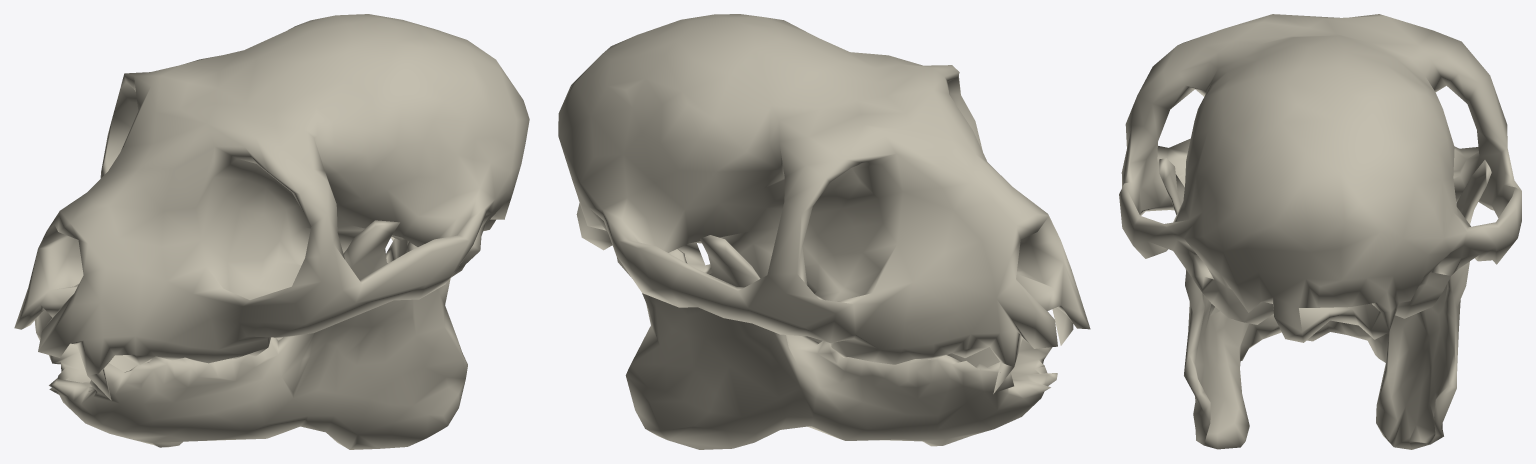
File: indri.glb
3 views of the same model, side by side, from view 1: azimuth 30°, elevation 25°; view 2: azimuth 150°, elevation 25°; view 3: azimuth 270°, elevation 25° (orthographic).
Bounding box in the file's own units: 0.0995 × 0.0752 × 0.0712.
